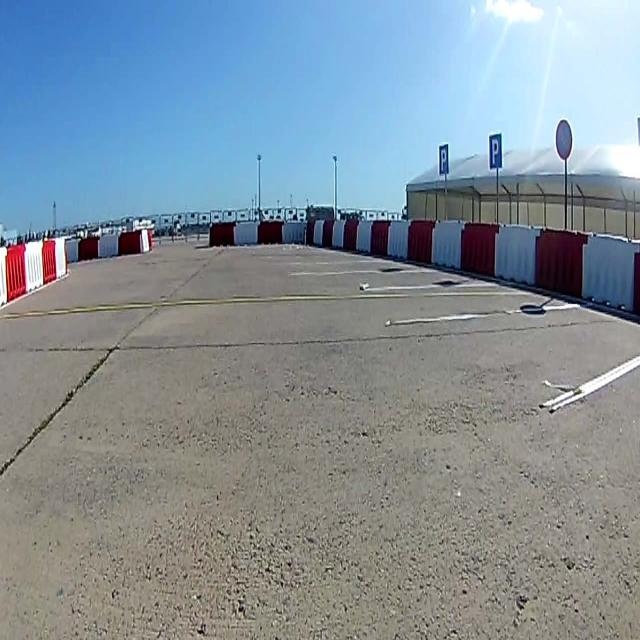park: (489, 132, 503, 170), (439, 143, 448, 176)
parkyasak: (554, 119, 572, 160)
